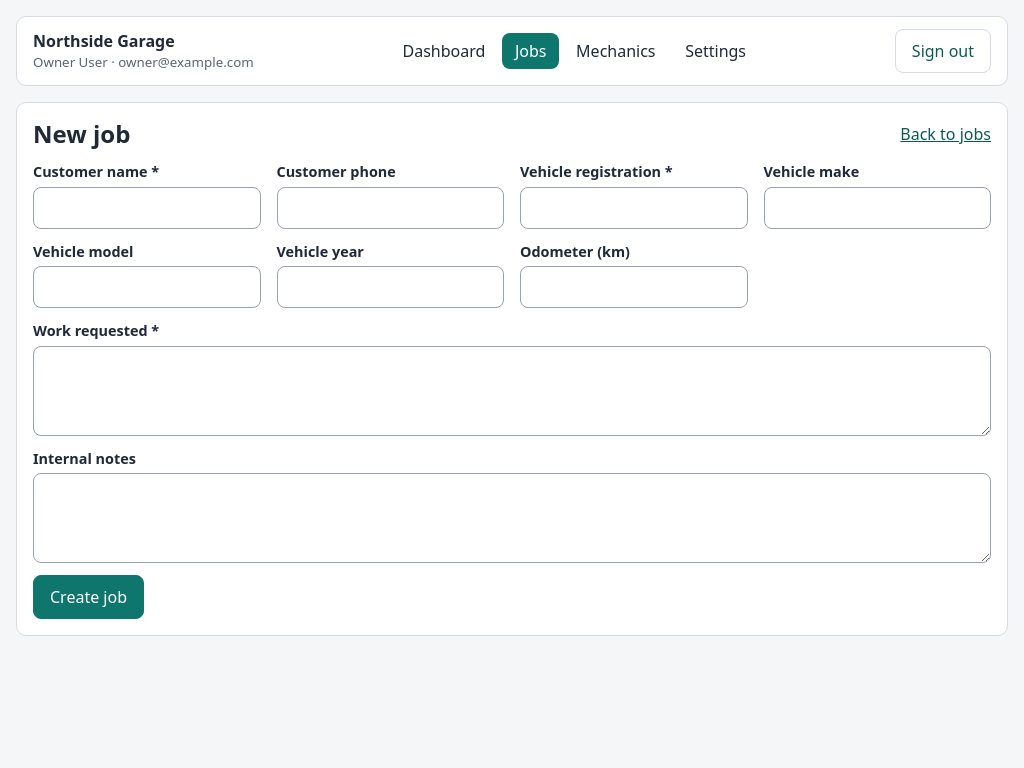
Test: GOSSA owner app › keeps entered data and shows field errors when job creation fails validation
Type "Sam Example" into the field labelled "Customer name *" at (147, 208), box [33,187,260,229]
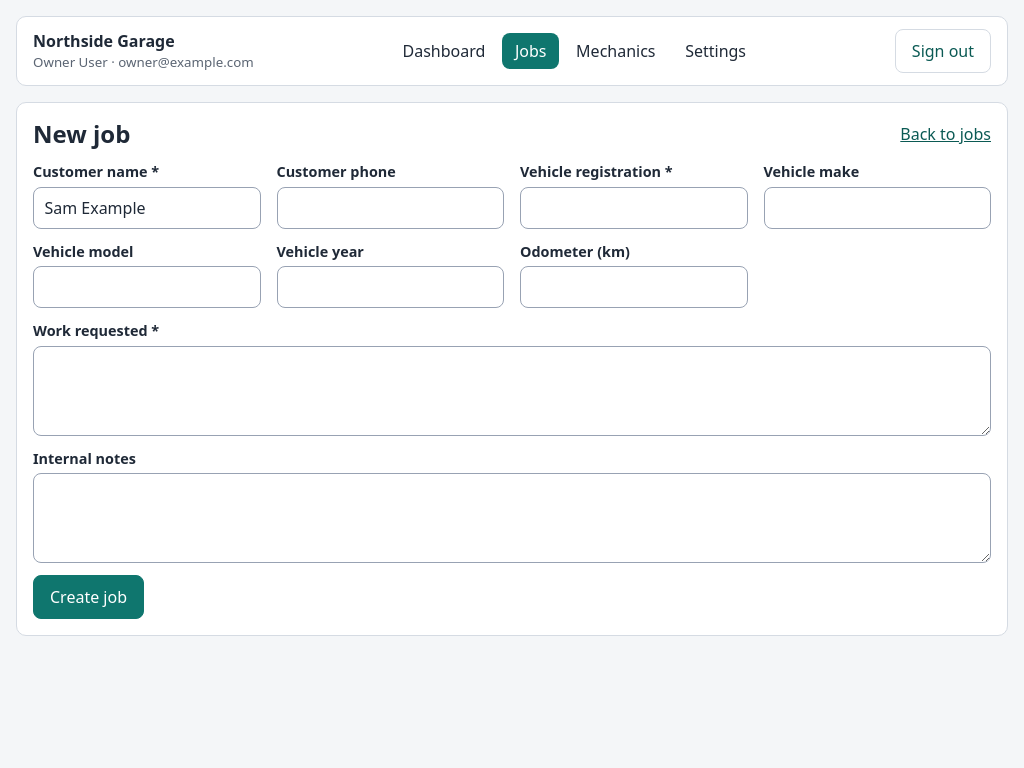
Type "KDA 123A" into the field labelled "Vehicle registration *" at (634, 208), box [520,187,748,229]
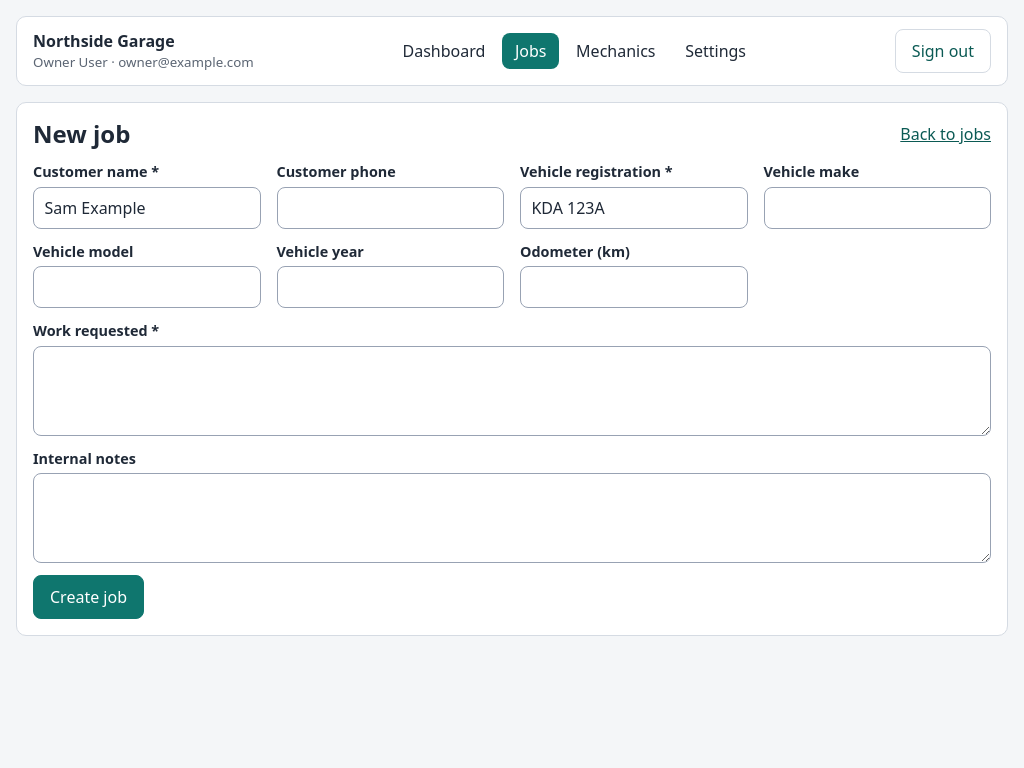
Type "Brakes" into the text box labelled "Work requested *" at (512, 391), box [33,346,991,436]
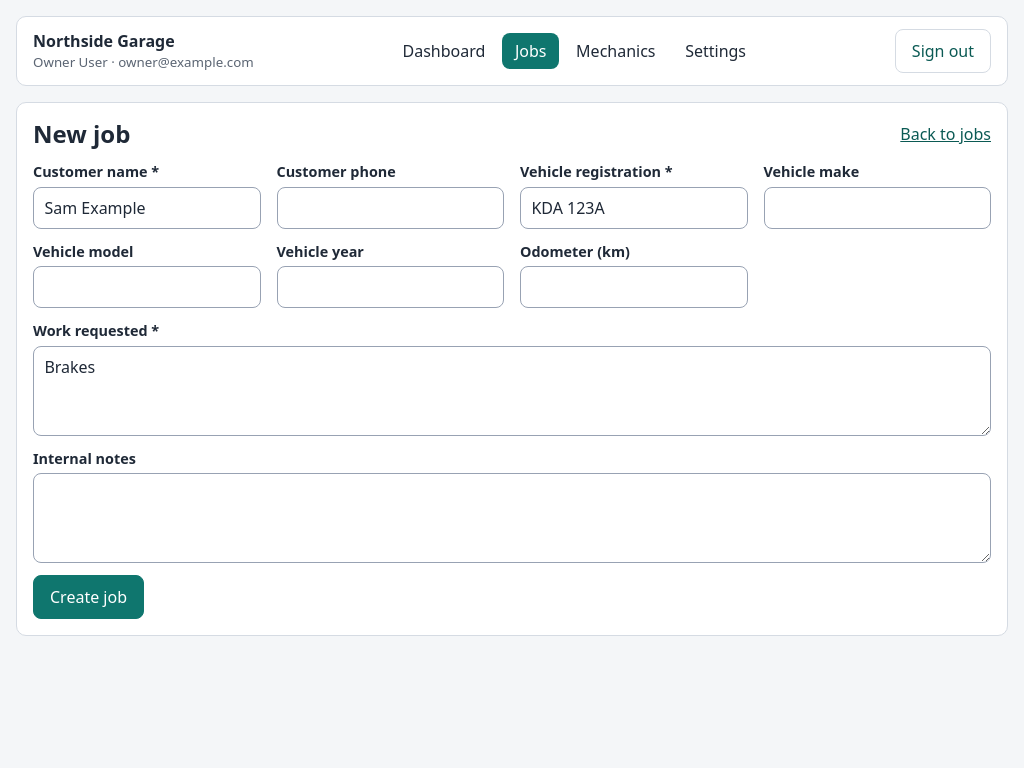
Click the button "Create job" at (88, 597), box [33,575,144,619]
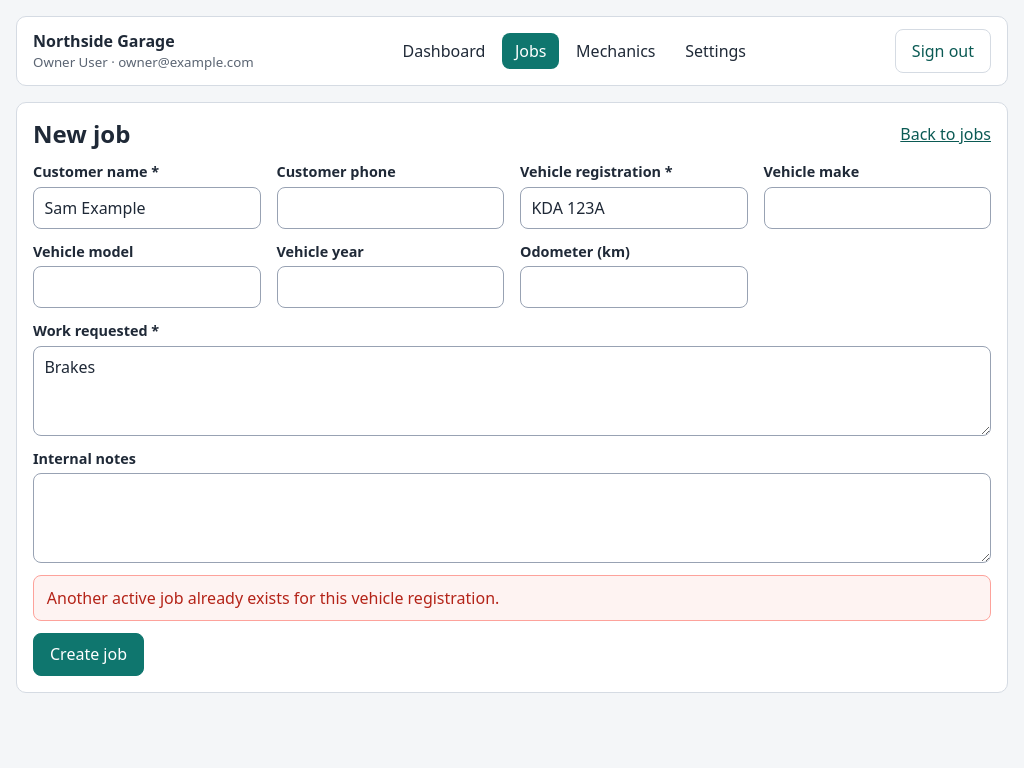
Result: the text "Another active job already exists for this vehicle registration" is shown at [47,587,499,609]
